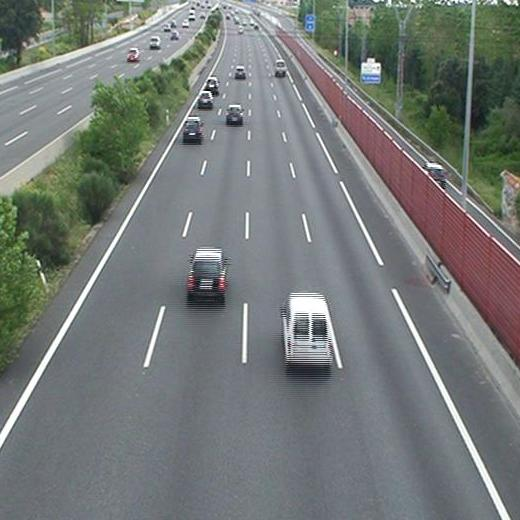car: (187, 249, 227, 299), (183, 118, 203, 140), (226, 104, 243, 122), (198, 90, 213, 106), (205, 77, 218, 92), (275, 61, 286, 74), (235, 66, 245, 77)
van: (283, 293, 330, 363)
